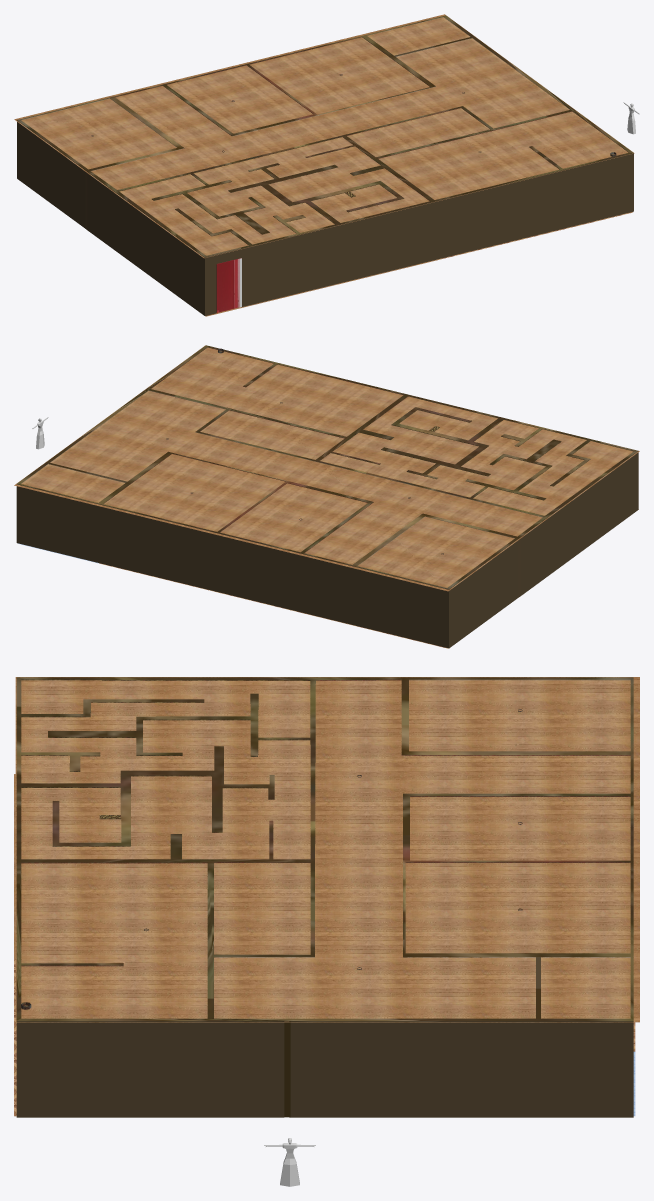
Rendered from house.fbx.
3 views of the same model, one above another, from view 1: azimuth 30°, elevation 25°; view 2: azimuth 150°, elevation 25°; view 3: azimuth 270°, elevation 25° (orthographic). The views are drawn at different scales.
Visible parts, largest first — view 1: Roof, Wall, Cube, Floor; view 2: Roof, Wall, Floor; view 3: Roof, Wall, Floor, Ghost.
Part boxes in pixels (box(x1,y1,x2,y2)): Roof: box(14, 14, 634, 258); Wall: box(17, 15, 633, 315); Cube: box(216, 258, 241, 312); Floor: box(205, 212, 632, 316); Roof: box(14, 345, 639, 591); Wall: box(16, 345, 638, 648); Floor: box(18, 543, 448, 648); Roof: box(15, 677, 639, 1022); Wall: box(16, 677, 633, 1117); Floor: box(14, 774, 635, 1116); Ghost: box(264, 1138, 315, 1186).
Bounding box in the file's own units: 7901 × 917 × 5067.
